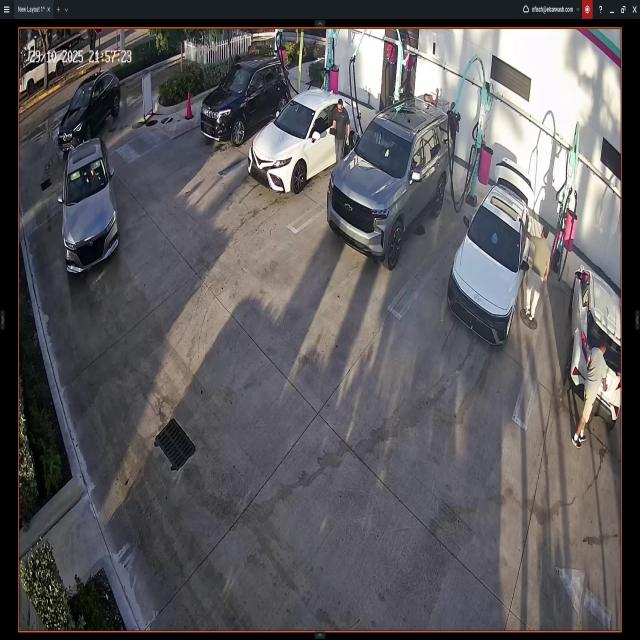Car: (328, 101, 450, 268), (449, 158, 536, 348), (249, 86, 345, 196), (62, 138, 119, 278), (572, 268, 621, 427), (202, 59, 288, 145), (59, 70, 120, 150)
